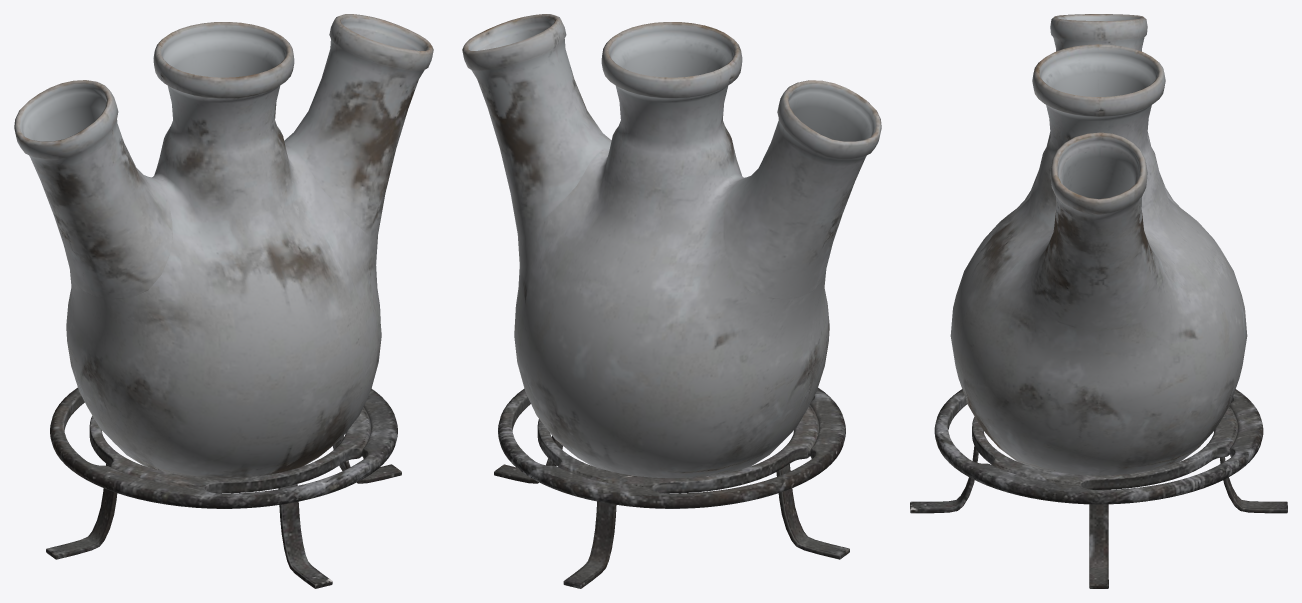
The model's file is Flask03.fbx.
3 renders of one model, left to right at view 1: azimuth 30°, elevation 25°; view 2: azimuth 150°, elevation 25°; view 3: azimuth 270°, elevation 25°, orthographic. The views are drawn at different scales.
Visible parts, largest first — view 1: KuJ AL Beaker 03.Shape; view 2: KuJ AL Beaker 03.Shape; view 3: KuJ AL Beaker 03.Shape.
Part boxes in pixels (x1,y1,x2,y2): KuJ AL Beaker 03.Shape: (14,14,433,588); KuJ AL Beaker 03.Shape: (462,14,881,588); KuJ AL Beaker 03.Shape: (910,14,1287,588).
Bounding box in the file's own units: 23.29 × 25.39 × 19.81.
Materials: 3 (2 with a texture image).
